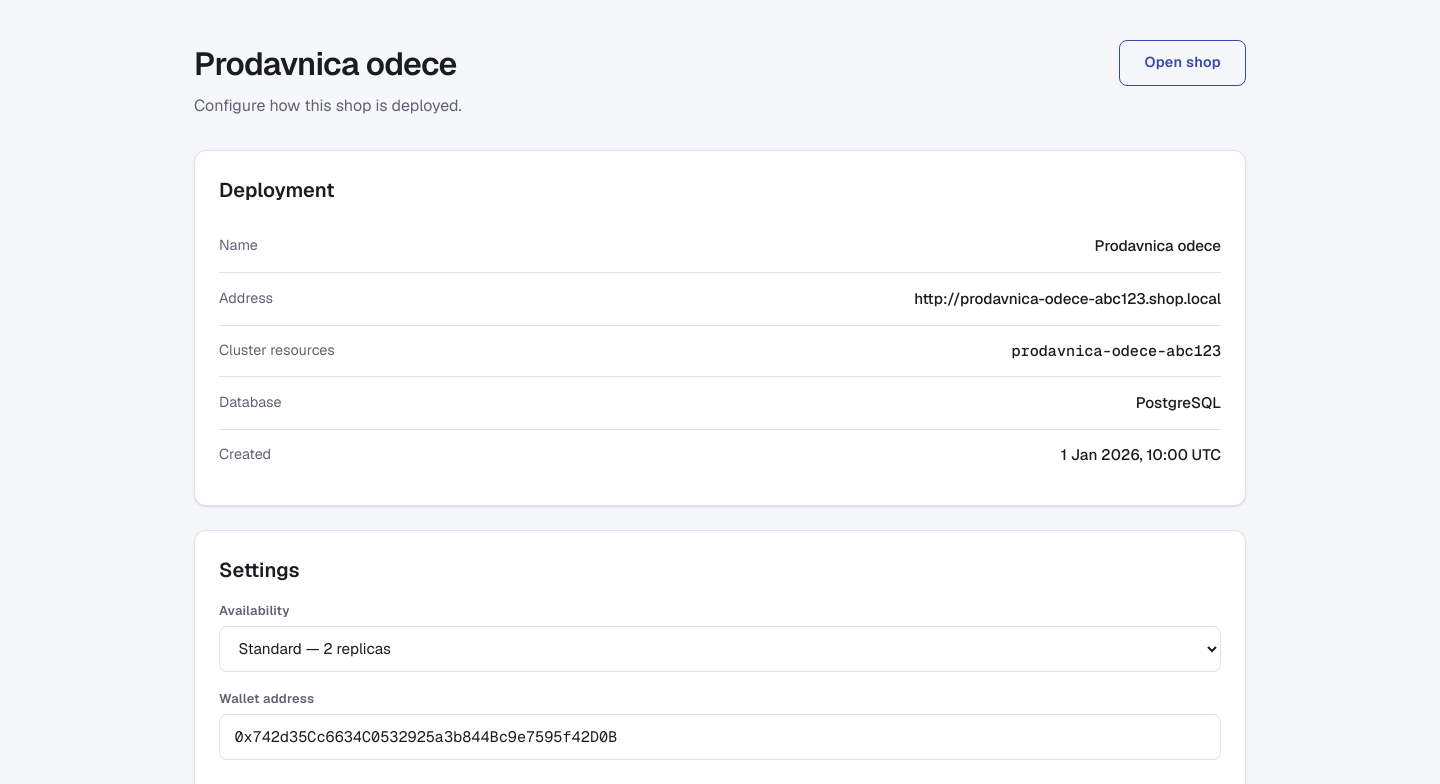
ShopPage › says what the backend refused
Check: the field labelled "Wallet address" is shown, box [219,714,1221,760]
Step 1. Select "High — 3 replicas" in the dropdown labelled "Availability" → {"x": 720, "y": 649}, box [219,626,1221,672]
(page scrolled)
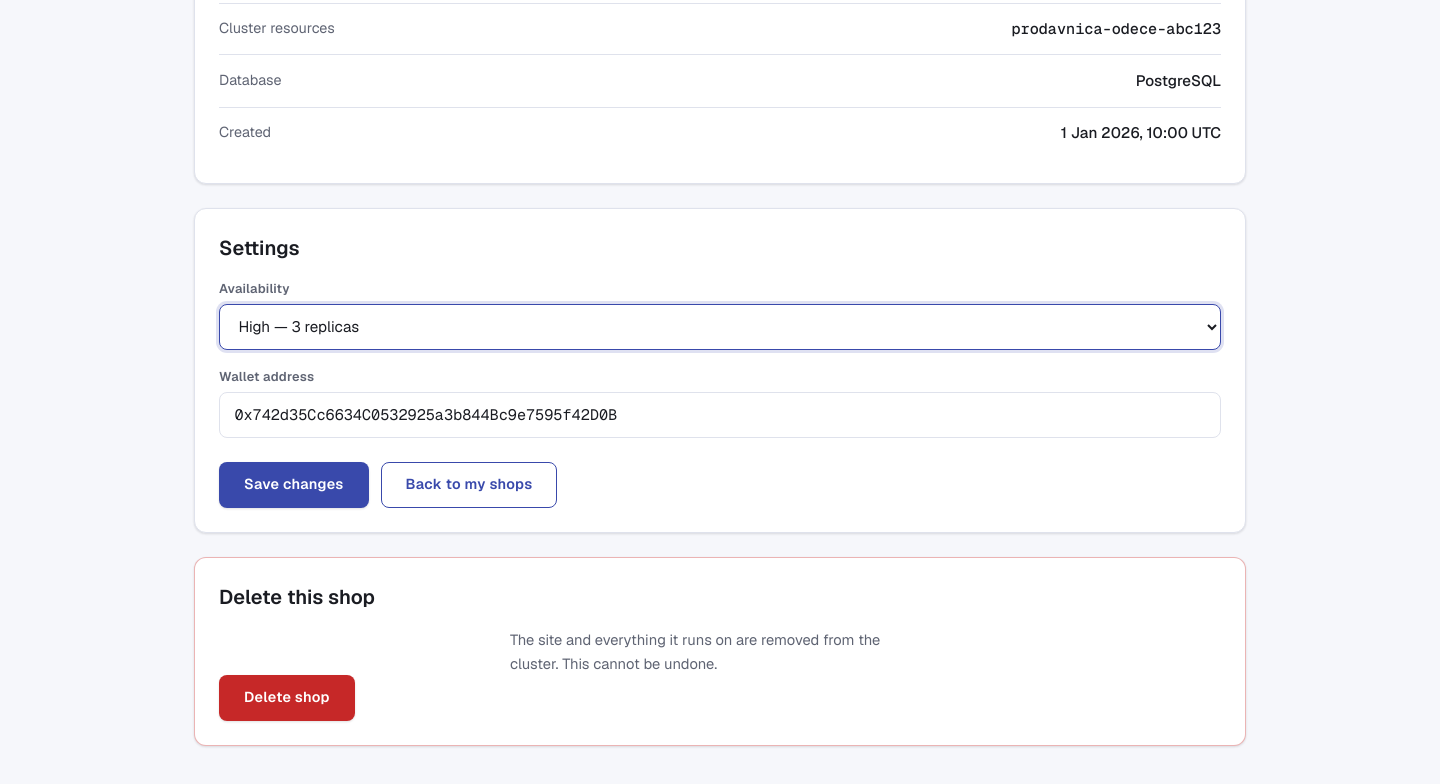
Step 2. Click the button "Save changes" → {"x": 294, "y": 485}, box [219,462,368,508]
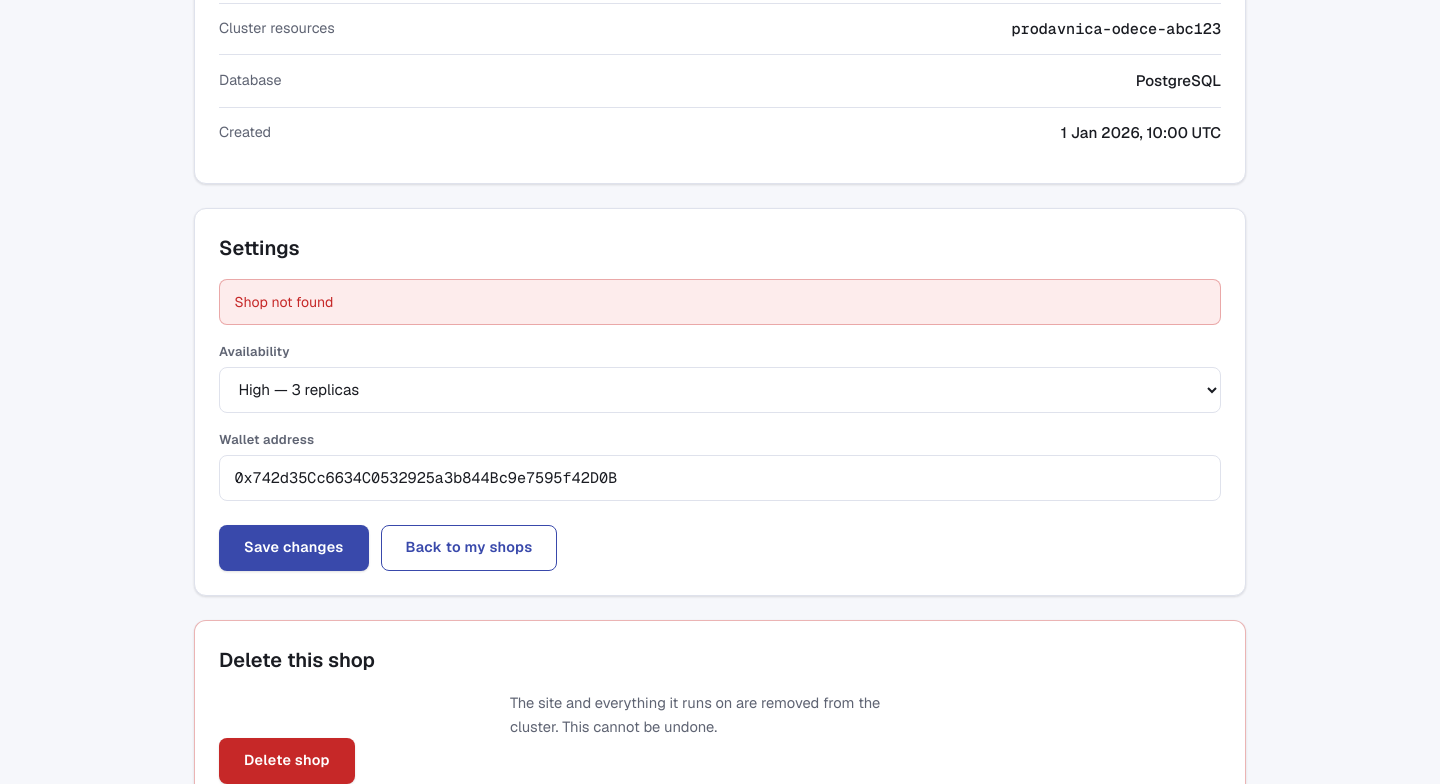
Check: the message reads "Shop not found", box [234,293,334,311]
